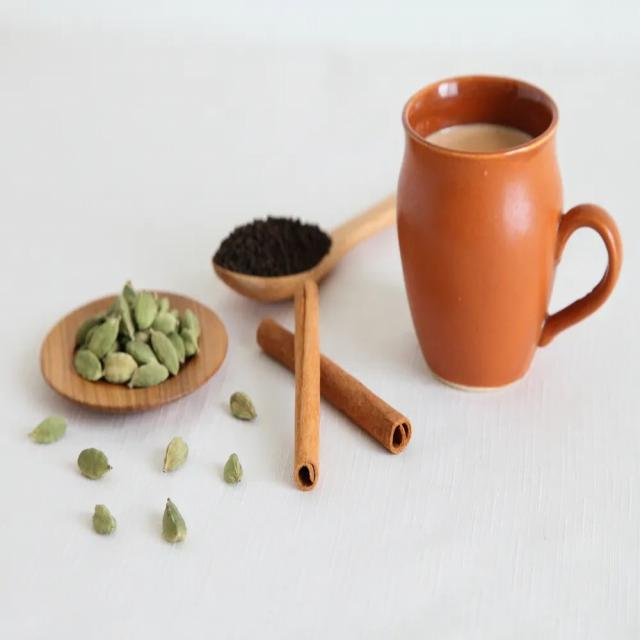Chai: (423, 114, 539, 155)
